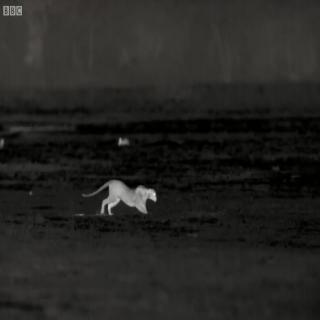Leopard: (78, 154, 166, 226)
